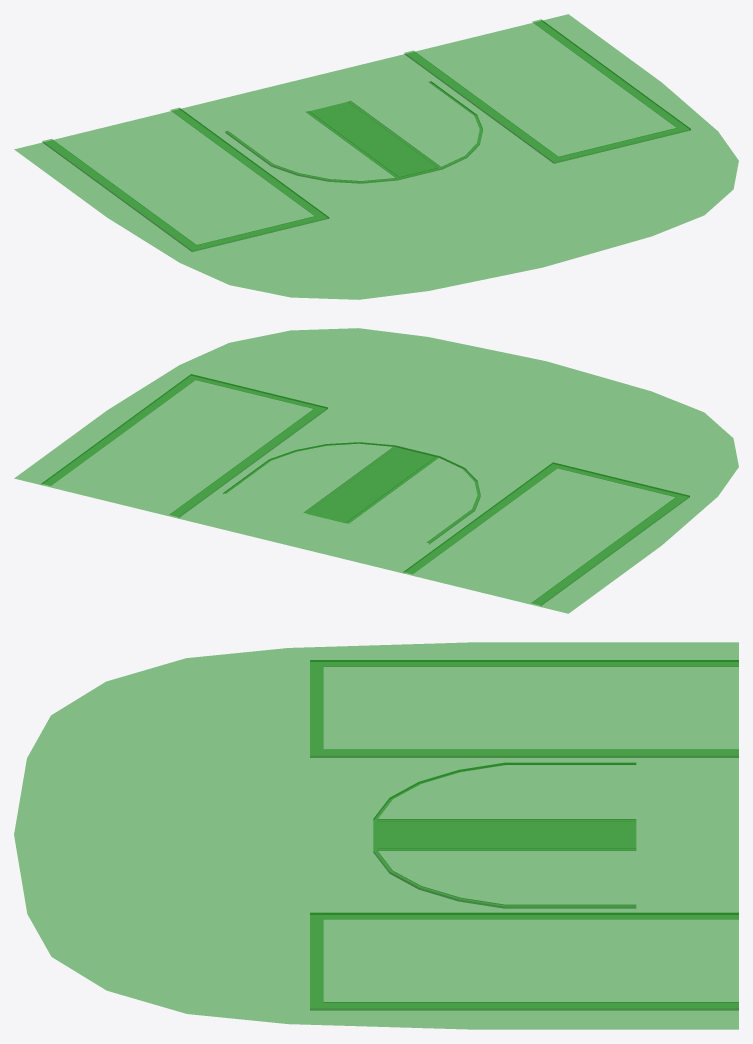
The model's file is road_9_01.obj.
3 views of the same model, one above another, from view 1: azimuth 30°, elevation 25°; view 2: azimuth 150°, elevation 25°; view 3: azimuth 270°, elevation 25° (orthographic). The views are drawn at different scales.
Bounding box in the file's own units: 92.86 × 0.24 × 73.47.
